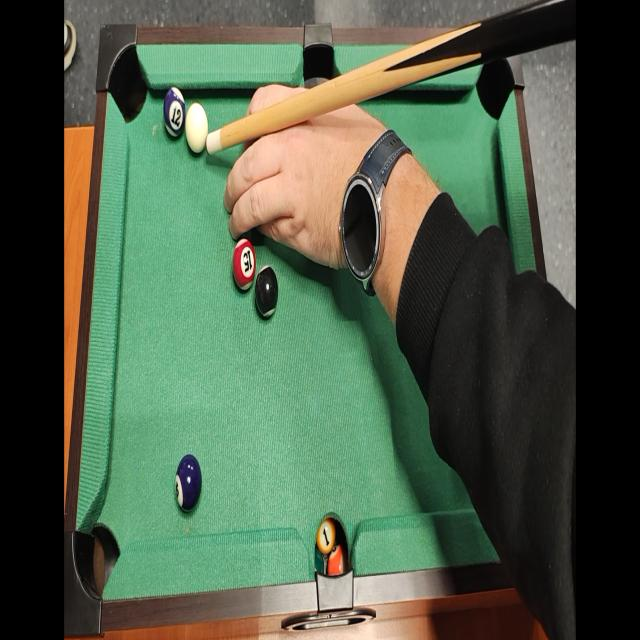cue ball: (185, 102, 208, 156)
other: (173, 452, 203, 517), (251, 262, 280, 321), (232, 233, 255, 296), (160, 86, 183, 142)
